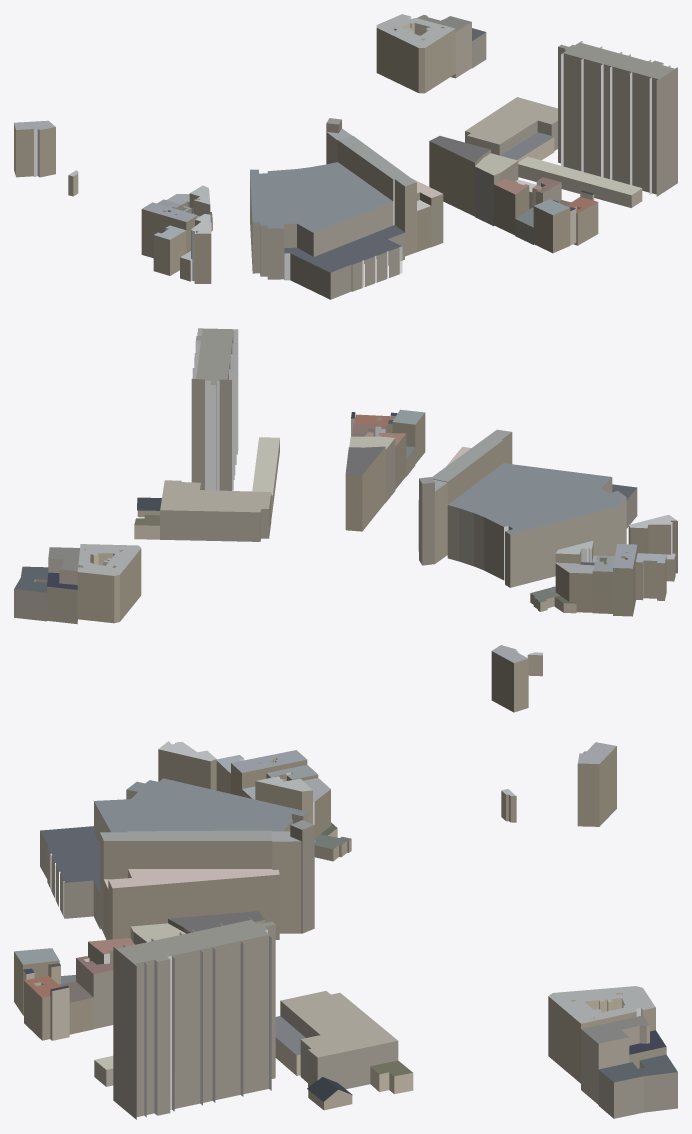
3 views of the same model, one above another, from view 1: azimuth 30°, elevation 25°; view 2: azimuth 150°, elevation 25°; view 3: azimuth 270°, elevation 25° (orthographic). The views are drawn at different scales.
Parts seen in each view (by area): view 1: tuile; view 2: tuile; view 3: tuile.
Part boxes in pixels (box(x1,y1,x2,y2)): tuile: box(14, 14, 677, 299); tuile: box(14, 328, 677, 712); tuile: box(14, 741, 677, 1119).
Bounding box in the file's own units: 274 × 64.67 × 243.
